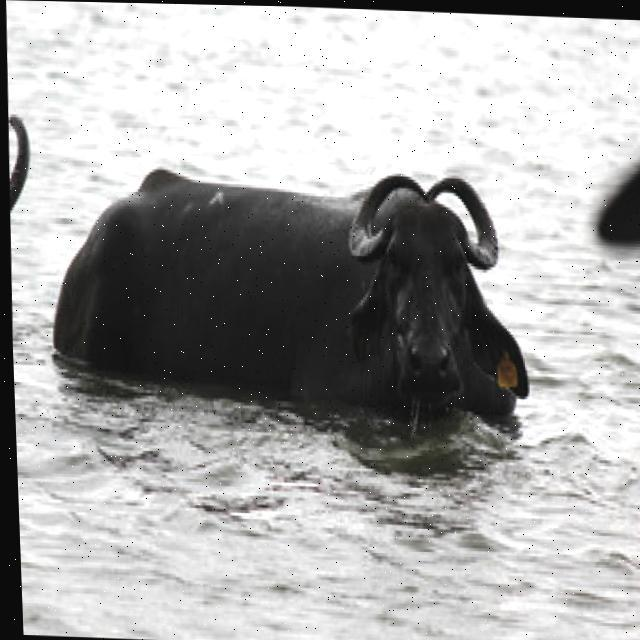Buffalo: (42, 155, 535, 431)
